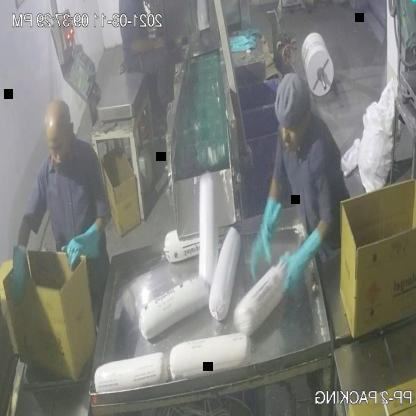glove: (245, 197, 284, 285), (63, 217, 101, 273), (6, 237, 27, 311)
no_glove: (132, 27, 169, 63)
